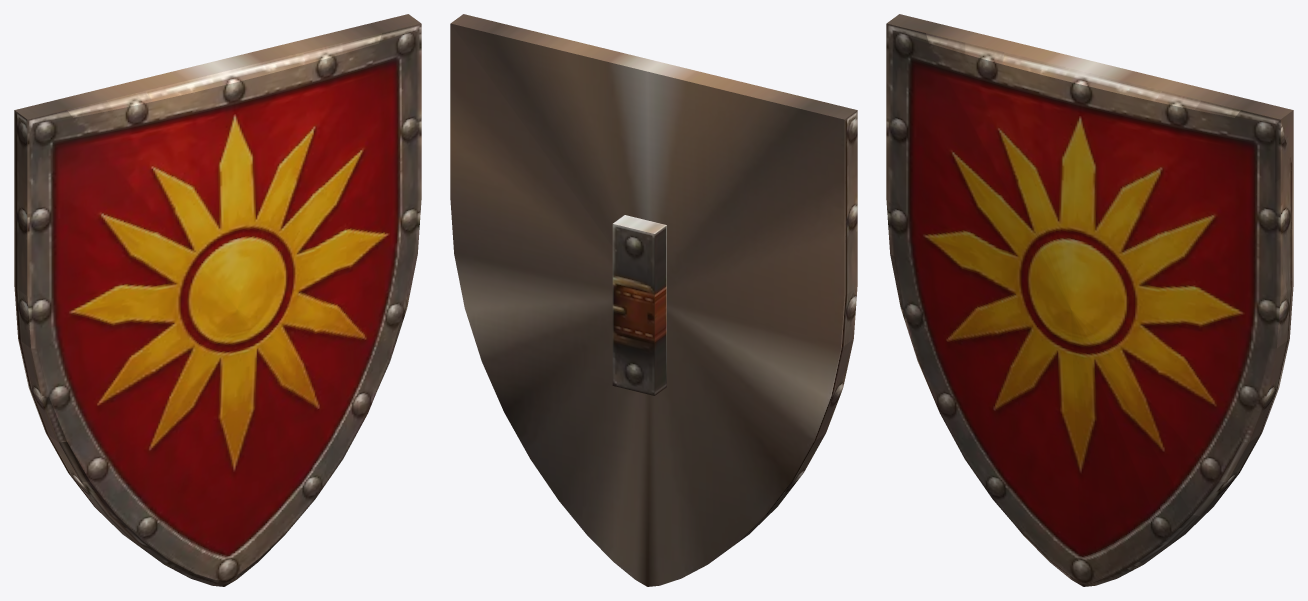
The model's file is shield_heater.glb.
3 renders of one model, left to right at view 1: azimuth 30°, elevation 25°; view 2: azimuth 150°, elevation 25°; view 3: azimuth 330°, elevation 25°, orthographic.
Visible parts, largest first — view 1: shield_heater; view 2: shield_heater; view 3: shield_heater.
Part boxes in pixels (x1=…): shield_heater: x1=14, y1=14, x2=421, y2=586; shield_heater: x1=450, y1=14, x2=857, y2=586; shield_heater: x1=886, y1=14, x2=1293, y2=586.
Size of the model in its own units: 0.56 by 0.7 by 0.097.
Materials: 1 (1 with a texture image).
